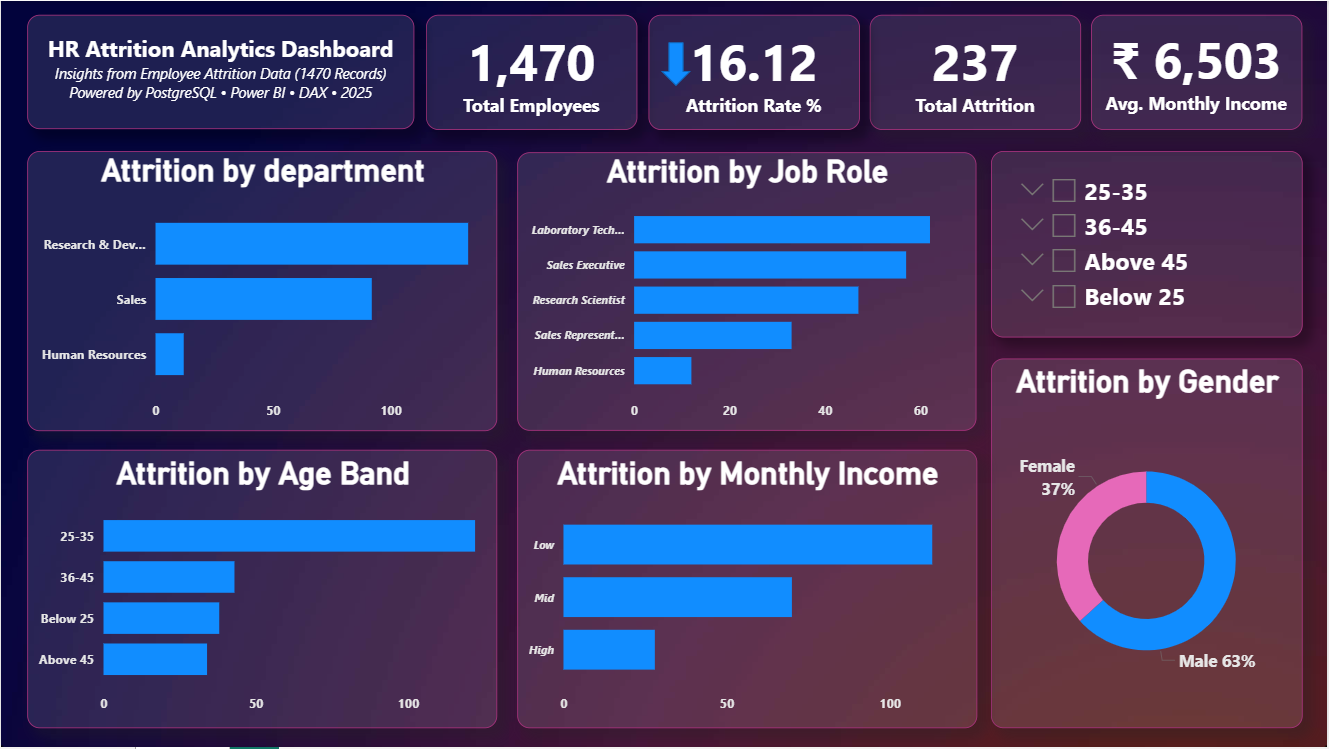

This screenshot's page, from the dashboard's own definition file:
{"tool":"powerbi","page":{"name":"Page 1","canvas":[1280,720],"ordinal":0},"visuals":[{"type":"card","title":"Employees","fields":{"Values":["hr_employee.Total Employees"]},"box":[410.2,13.3,203.9,111],"z":0},{"type":"card","title":"Employees Left","fields":{"Values":["hr_employee.Total Attrition"]},"box":[838.5,13.3,203.9,111],"z":1000},{"type":"card","title":"Attrition Rate","fields":{"Values":["hr_employee.Attrition Rate %"]},"box":[624.9,13.3,203.9,111],"z":2000},{"type":"card","title":"Avg. Monthly Income)","fields":{"Values":["hr_employee.Average Monthly Income"]},"box":[1052,13.3,203.9,111],"z":3000},{"type":"clusteredBarChart","title":"Attrition by department","fields":{"Category":["hr_employee.department"],"Y":["hr_employee.Total Attrition"]},"box":[25.3,144.8,453.6,270.2],"z":4000},{"type":"clusteredBarChart","title":"Attrition by Age Band","fields":{"Category":["hr_employee.Age Band"],"Y":["hr_employee.Total Attrition"]},"box":[25.3,433.1,453.6,269],"z":5000},{"type":"clusteredBarChart","title":"Attrition by Job Role","fields":{"Category":["hr_employee.jobrole"],"Y":["hr_employee.Total Attrition"]},"box":[498.6,146,443.4,268.9],"z":6000},{"type":"donutChart","title":"Attrition by Gender","fields":{"Category":["hr_employee.gender"],"Y":["hr_employee.Total Attrition"]},"box":[955.5,345,300.4,357.1],"z":7000},{"type":"textbox","box":[25,13.8,373.8,110],"z":8000},{"type":"slicer","fields":{"Values":["hr_employee.Age Band","hr_employee.gender","hr_employee.Job role"]},"box":[955.5,144.8,300.4,179.8],"z":9000},{"type":"clusteredBarChart","title":"Attrition by Monthly Income","fields":{"Y":["hr_employee.Total Attrition"],"Category":["hr_employee.Income Band"]},"box":[498.3,433.1,444,269],"z":10000},{"type":"shape","box":[637,39.8,29,42.2],"z":11000}]}

Visuals, with their boxes in screenshot pixels (x1, y1, x2, y2), scaled from the page's 1280x720 canvas onto the 1329x749 screenshot:
"Employees" card: x1=426 y1=14 x2=638 y2=129
"Employees Left" card: x1=871 y1=14 x2=1082 y2=129
"Attrition Rate" card: x1=649 y1=14 x2=861 y2=129
"Avg. Monthly Income)" card: x1=1092 y1=14 x2=1304 y2=129
"Attrition by department" clusteredBarChart: x1=26 y1=151 x2=497 y2=432
"Attrition by Age Band" clusteredBarChart: x1=26 y1=451 x2=497 y2=730
"Attrition by Job Role" clusteredBarChart: x1=518 y1=152 x2=978 y2=432
"Attrition by Gender" donutChart: x1=992 y1=359 x2=1304 y2=730
textbox: x1=26 y1=14 x2=414 y2=129
slicer - hr_employee.Age Band x hr_employee.gender: x1=992 y1=151 x2=1304 y2=338
"Attrition by Monthly Income" clusteredBarChart: x1=517 y1=451 x2=978 y2=730
shape: x1=661 y1=41 x2=691 y2=85
